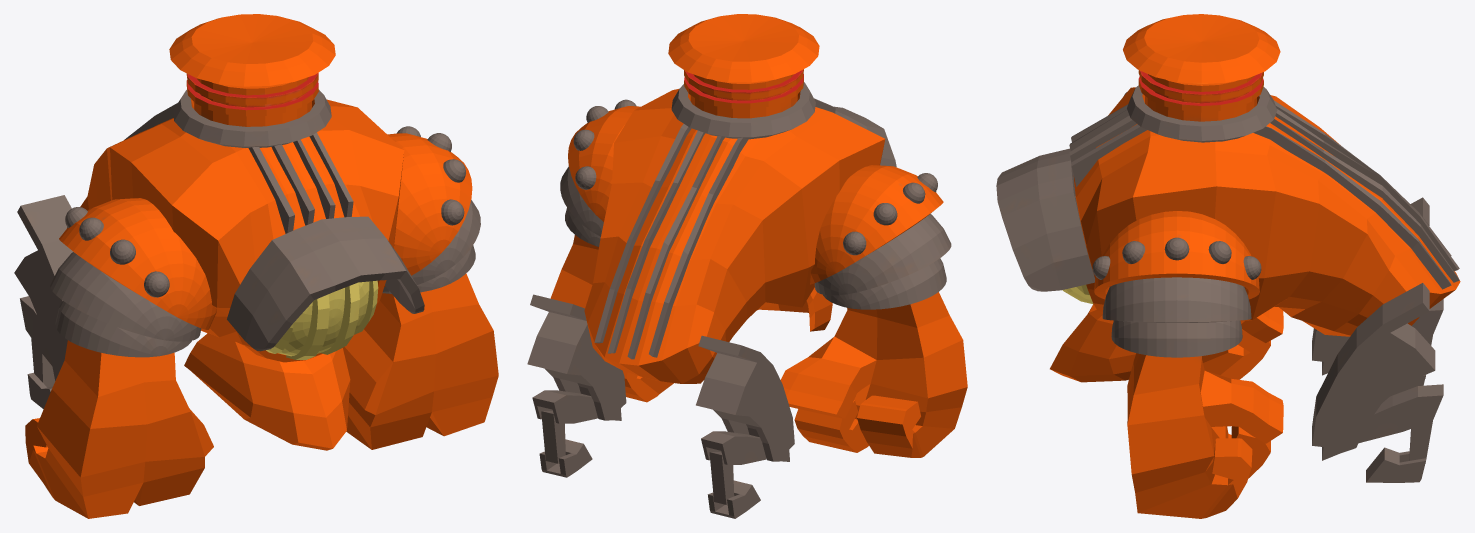
File: stomperV3.fbx
3 renders of one model, left to right at view 1: azimuth 30°, elevation 25°; view 2: azimuth 150°, elevation 25°; view 3: azimuth 270°, elevation 25°, orthographic. The views are drawn at different scales.
Visible parts, largest first — view 1: body, R_arm, L_arm, R_leg1, polySurface57, R_leg2, R_leg3; view 2: body, R_arm, L_arm, R_leg1, L__leg1, L_leg2, R_leg2, L_leg4, R_leg4, L_leg3, R_leg3; view 3: body, L_arm, L__leg1, R_arm, L_leg2, L_leg4, R_leg1, L_leg3, R_leg2.
Part boxes in pixels (left/top/right/bottom): body: left=80, top=14, right=424, bottom=450; R_arm: left=25, top=198, right=216, bottom=518; L_arm: left=343, top=126, right=498, bottom=449; R_leg1: left=14, top=195, right=73, bottom=380; polySurface57: left=278, top=281, right=369, bottom=356; R_leg2: left=20, top=296, right=52, bottom=365; R_leg3: left=31, top=338, right=55, bottom=387; body: left=584, top=14, right=896, bottom=383; R_arm: left=780, top=165, right=967, bottom=457; L_arm: left=550, top=99, right=673, bottom=402; R_leg1: left=696, top=335, right=794, bottom=461; L__leg1: left=527, top=294, right=626, bottom=420; L_leg2: left=532, top=390, right=597, bottom=423; R_leg2: left=701, top=431, right=766, bottom=464; L_leg4: left=539, top=439, right=592, bottom=477; R_leg4: left=707, top=480, right=760, bottom=518; L_leg3: left=541, top=411, right=565, bottom=463; R_leg3: left=709, top=452, right=734, bottom=504; body: left=996, top=14, right=1460, bottom=382; L_arm: left=1092, top=211, right=1283, bottom=518; L__leg1: left=1312, top=283, right=1435, bottom=460; R_arm: left=1123, top=92, right=1283, bottom=379; L_leg2: left=1358, top=384, right=1443, bottom=442; L_leg4: left=1366, top=447, right=1425, bottom=482; R_leg1: left=1312, top=197, right=1429, bottom=375; L_leg3: left=1409, top=421, right=1432, bottom=463; R_leg2: left=1412, top=299, right=1443, bottom=338.
Bounding box in the file's own units: 13.89 × 13.34 × 14.15.
1 material, 1 textured.
